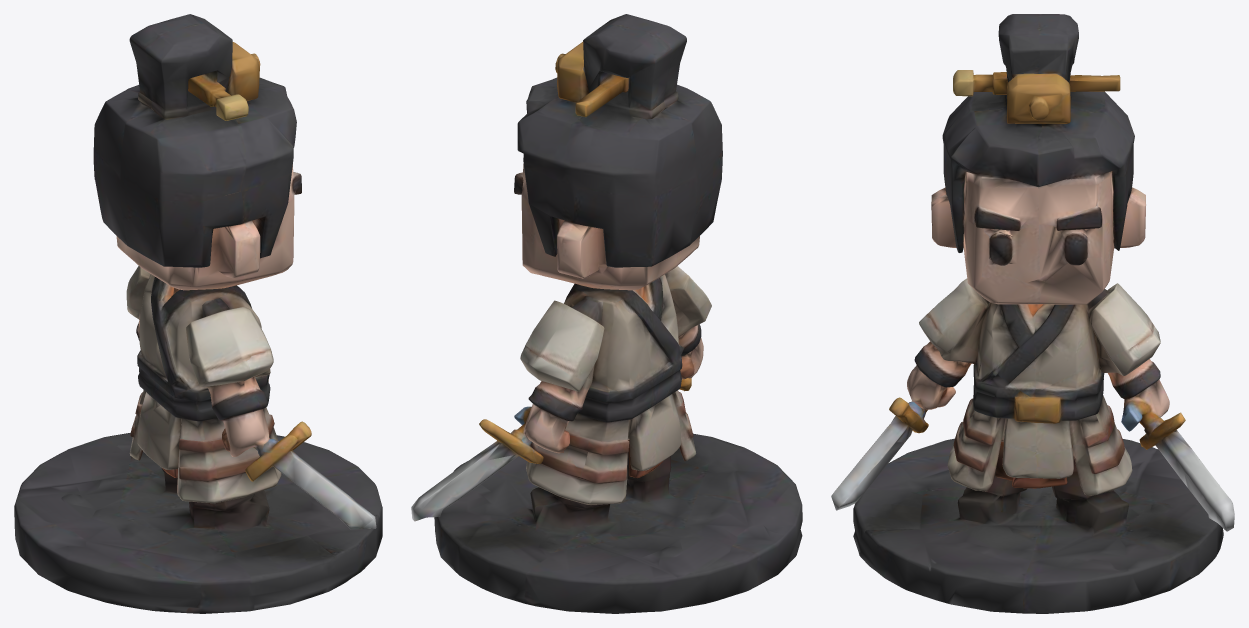
Rendered from advisor.glb.
3 views of the same model, side by side, from view 1: azimuth 30°, elevation 25°; view 2: azimuth 150°, elevation 25°; view 3: azimuth 270°, elevation 25° (orthographic).
Visible parts, largest first — view 1: tripo_node_c2c1cdbb-e316-4de5-8267-0f03705f1639; view 2: tripo_node_c2c1cdbb-e316-4de5-8267-0f03705f1639; view 3: tripo_node_c2c1cdbb-e316-4de5-8267-0f03705f1639.
Part boxes in pixels (<box>): tripo_node_c2c1cdbb-e316-4de5-8267-0f03705f1639: <box>14,14,382,613</box>; tripo_node_c2c1cdbb-e316-4de5-8267-0f03705f1639: <box>411,14,802,613</box>; tripo_node_c2c1cdbb-e316-4de5-8267-0f03705f1639: <box>831,14,1234,613</box>.
Size of the model in its own units: 0.654 by 0.9999 by 0.7217.
1 material, 1 textured.
